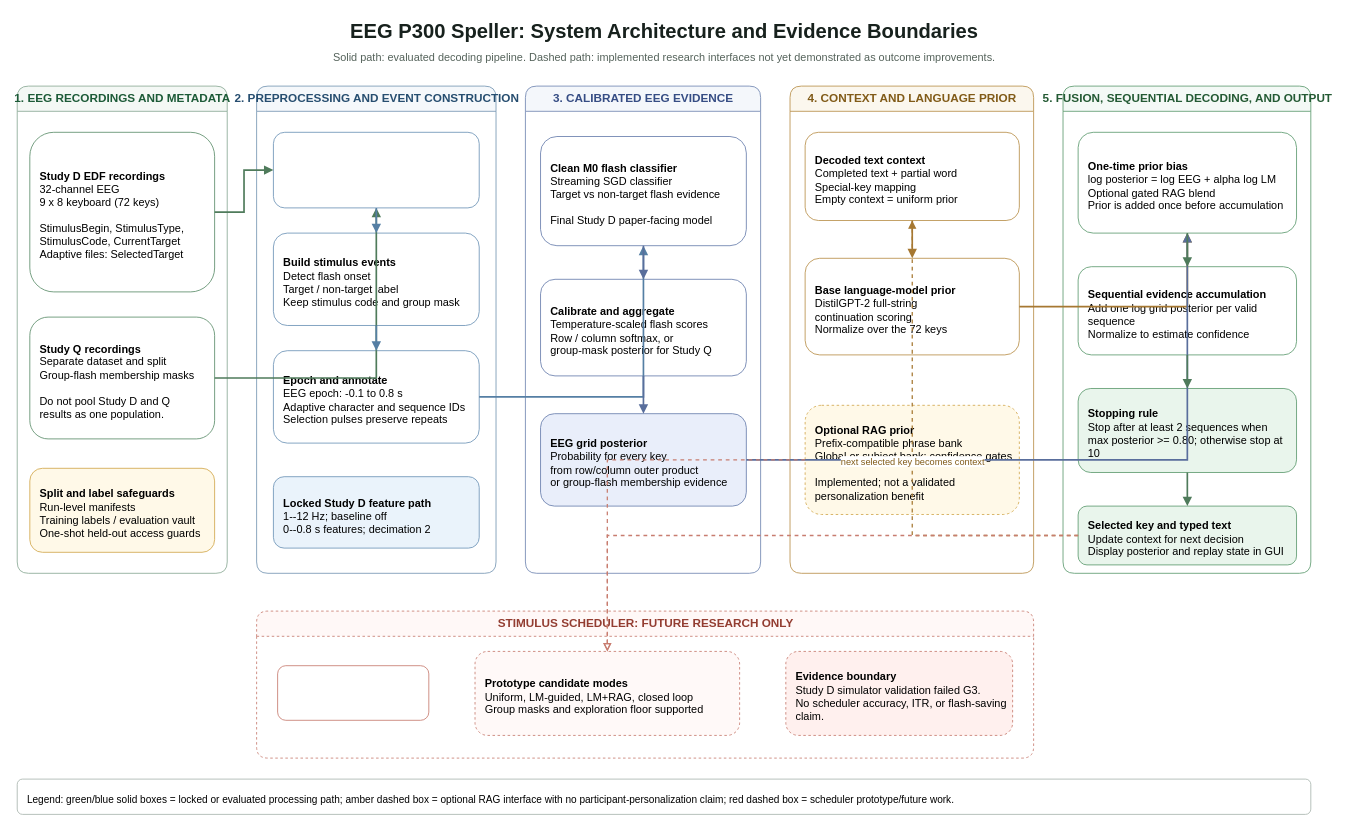
The diagram is 1347 pixels wide and 829 high, and some of its shapes have lost their labels. Here are the shapes that lost their labels. From the top down, the centre of each, then its label:
At pixel 376 169: "Parse raw EEG Identify EEG, trigger, and grid channels Read native sample clock".
At pixel 353 692: "Current live policy Uniform flashing".
